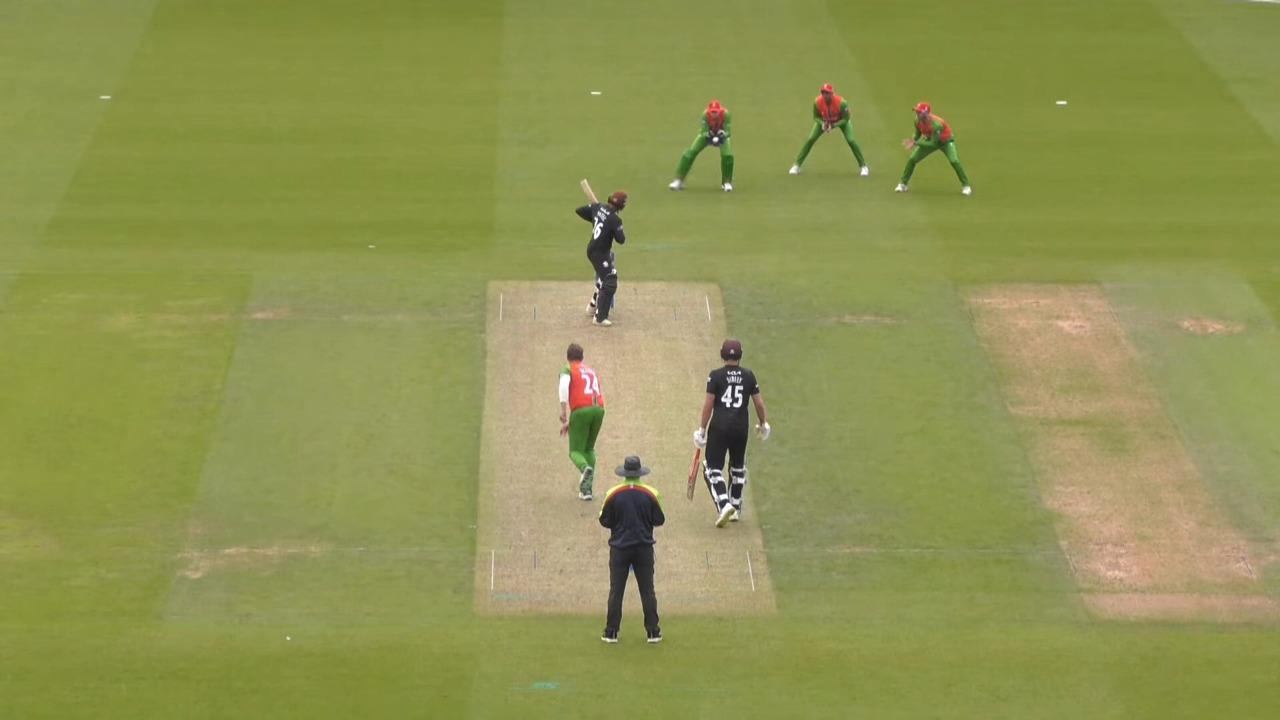sports ball: (713, 137, 718, 142)
